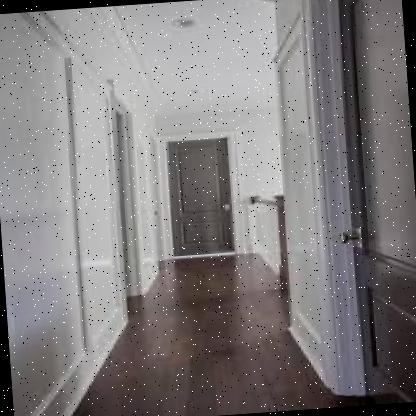door: (159, 130, 242, 276)
